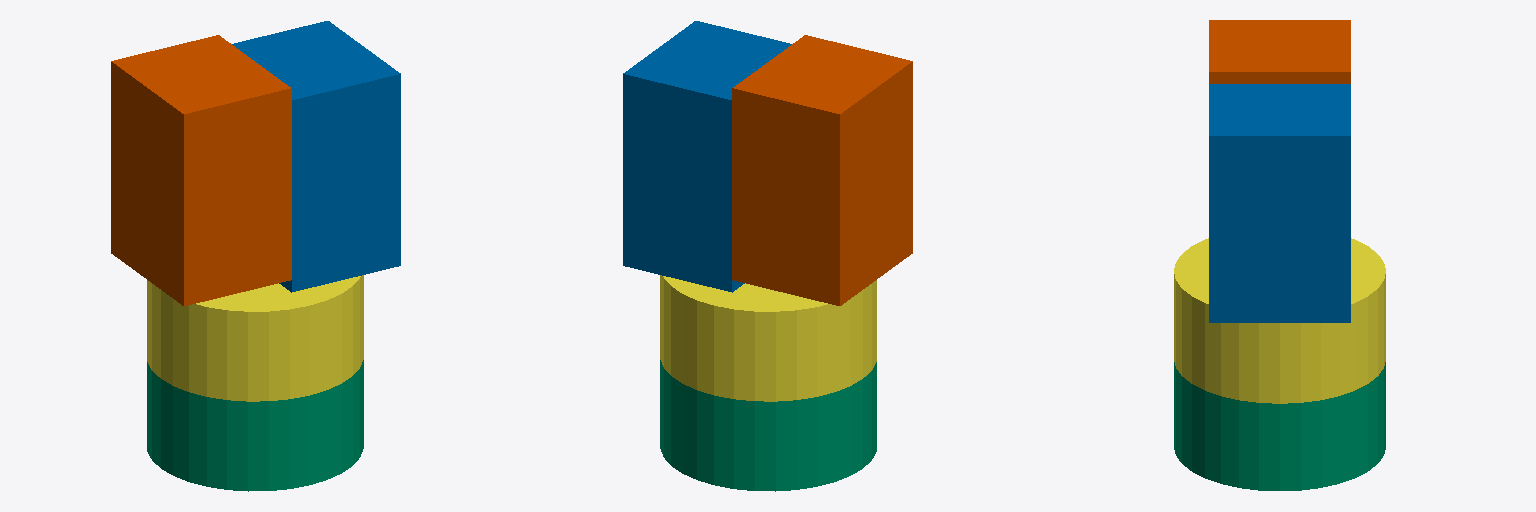
URDF robot description (sample_robot):
<?xml version="1.0" ?>
<!-- =================================================================================== -->
<!-- |    This document was autogenerated by xacro from sample.urdf.xacro              | -->
<!-- |    EDITING THIS FILE BY HAND IS NOT RECOMMENDED                                 | -->
<!-- =================================================================================== -->
<!-- top of urdf -->
<robot name="sample_robot" xmlns:xacro="http://ros.org/wiki/xacro">
  <!-- defined num and set of link and joint -->
  <!-- lowest level of xacro -->
  <!-- valiables to be used -->
  <!-- link to provide the location reference for the arm -->
  <link name="base_link"/>
  <!-- 1. the first top link and joint -->
  <link name="sample_robot_mounting_link"/>
  <joint name="sample_robot_mounting_joint" type="fixed">
    <origin xyz="0 0 0"/>
    <parent link="base_link"/>
    <child link="sample_robot_mounting_link"/>
  </joint>
  <joint name="mounting_bracket_a_joint" type="fixed">
    <origin rpy="0 0 0" xyz="0 0 0"/>
    <parent link="sample_robot_mounting_link"/>
    <child link="mounting_bracket_a_link"/>
  </joint>
  <link name="mounting_bracket_a_link">
    <visual>
      <origin rpy="0 0 0" xyz="0 0 0.0255"/>
      <geometry>
        <cylinder length="0.051" radius="0.056"/>
      </geometry>
    </visual>
    <!-- FIXME add collision and inetia -->
  </link>
  <!-- FIXME add llimit ulimit vlimit -->
  <joint name="mounting_bracket_b_joint" type="continuous">
    <origin rpy="0 0 0" xyz="0 0 0.051"/>
    <axis xyz="0 0 1"/>
    <parent link="mounting_bracket_a_link"/>
    <child link="mounting_bracket_b_link"/>
  </joint>
  <link name="mounting_bracket_b_link">
    <visual>
      <!-- FIXME change this to stl -->
      <origin rpy="0 0 0" xyz="0 0 0.0255"/>
      <geometry>
        <cylinder length="0.051" radius="0.056"/>
      </geometry>
      <!-- add collision and inertial -->
    </visual>
  </link>
  <joint name="motor_cover_1_a_joint" type="fixed">
    <origin rpy="0 0 0" xyz="0 0 0.051"/>
    <parent link="mounting_bracket_b_link"/>
    <child link="motor_cover_1_a_link"/>
  </joint>
  <link name="motor_cover_1_a_link">
    <!-- FIXME add inertial and collision -->
    <visual>
      <origin rpy="0 0 0" xyz="0.0325 0 0.0545"/>
      <geometry>
        <box size="0.065 0.075 0.109"/>
      </geometry>
    </visual>
  </link>
  <!-- FIXME add limit and ulimit vilimit-->
  <joint name="motor_cover_1_b_joint" type="continuous">
    <origin rpy="0 0 0" xyz="0 0 0.0615"/>
    <parent link="motor_cover_1_a_link"/>
    <child link="motor_cover_1_b_link"/>
  </joint>
  <link name="motor_cover_1_b_link">
    <visual>
      <origin rpy="0 0 0" xyz="-0.032 0 0"/>
      <geometry>
        <box size="0.064 0.075 0.109"/>
      </geometry>
    </visual>
  </link>
</robot>

--- Facts derived from the render (not from the file) ---
3 views of the same robot in one strip: view 1: azimuth 30°, elevation 25°; view 2: azimuth 150°, elevation 25°; view 3: azimuth 270°, elevation 25° (orthographic).
Robot: sample_robot — 6 links, 5 joints (2 continuous, 3 fixed); root link base_link; default pose: all joints at 0.
Links seen in each view (by area): view 1: motor_cover_1_b_link, motor_cover_1_a_link, mounting_bracket_b_link, mounting_bracket_a_link; view 2: motor_cover_1_b_link, motor_cover_1_a_link, mounting_bracket_b_link, mounting_bracket_a_link; view 3: motor_cover_1_a_link, mounting_bracket_b_link, mounting_bracket_a_link, motor_cover_1_b_link.
Boxes of the visible links, left/top/right/bottom form: motor_cover_1_b_link: left=111, top=35, right=291, bottom=305; motor_cover_1_a_link: left=232, top=21, right=400, bottom=292; mounting_bracket_b_link: left=147, top=275, right=363, bottom=401; mounting_bracket_a_link: left=147, top=360, right=363, bottom=491; motor_cover_1_b_link: left=732, top=35, right=912, bottom=305; motor_cover_1_a_link: left=623, top=21, right=791, bottom=292; mounting_bracket_b_link: left=660, top=275, right=876, bottom=401; mounting_bracket_a_link: left=660, top=360, right=876, bottom=491; motor_cover_1_a_link: left=1209, top=84, right=1350, bottom=322; mounting_bracket_b_link: left=1174, top=238, right=1385, bottom=403; mounting_bracket_a_link: left=1174, top=362, right=1385, bottom=490; motor_cover_1_b_link: left=1209, top=20, right=1350, bottom=83.
Size in the robot's own frame: 0.129 by 0.112 by 0.218 metres.
Geometry: primitives only (box / cylinder / sphere), no mesh files.